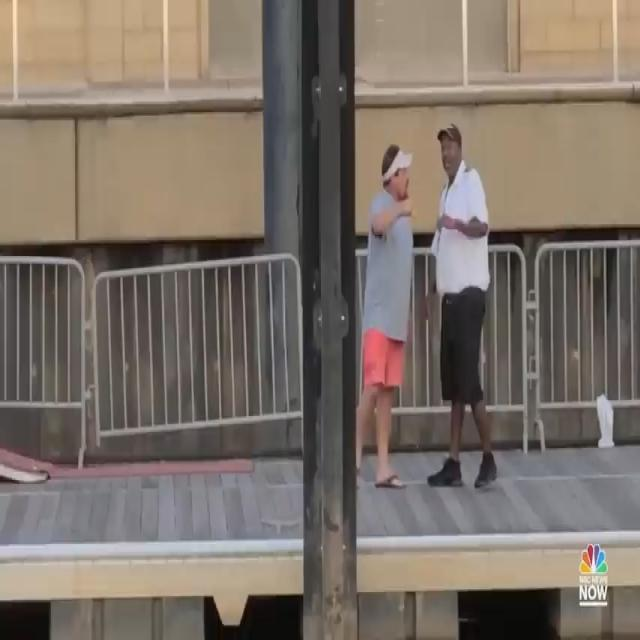fight: (360, 105, 502, 500)
